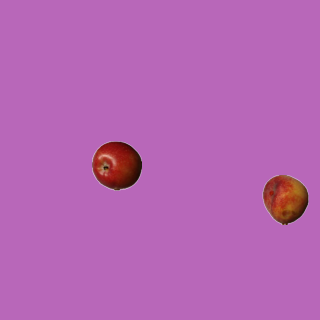Apple Braeburn: (91, 140, 141, 190)
Peach: (260, 174, 310, 224)
